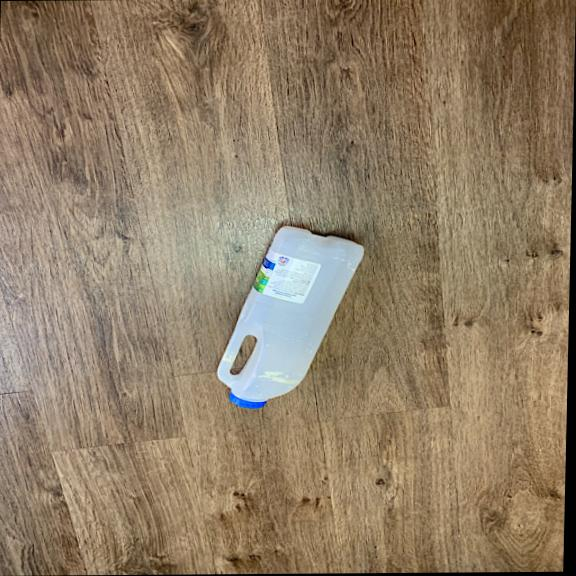Plastik: (216, 221, 368, 408)
